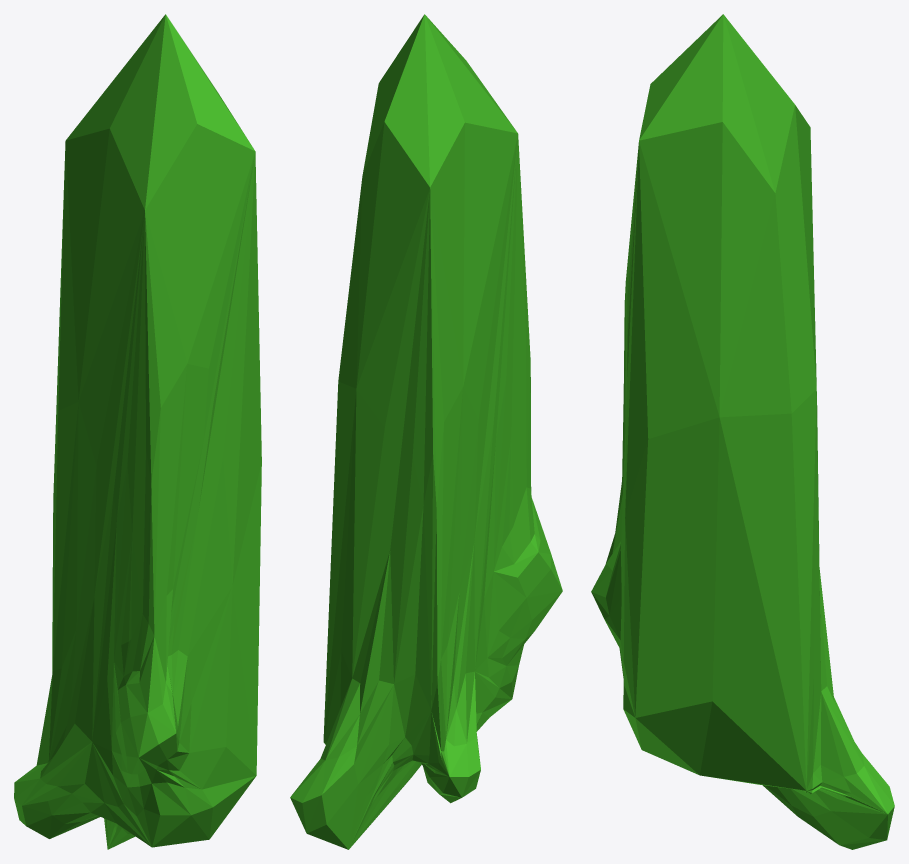
3 renders of one model, left to right at view 1: azimuth 30°, elevation 25°; view 2: azimuth 150°, elevation 25°; view 3: azimuth 270°, elevation 25°, orthographic. The views are drawn at different scales.
Visible parts, largest first — view 1: 068_Cube.279; view 2: 068_Cube.279; view 3: 068_Cube.279.
Boxes of the visible parts, <box> form: 068_Cube.279: <box>14,14,261,849</box>; 068_Cube.279: <box>290,14,562,849</box>; 068_Cube.279: <box>591,14,894,849</box>.
Bounding box in the file's own units: 2.83 × 13.84 × 4.61.
